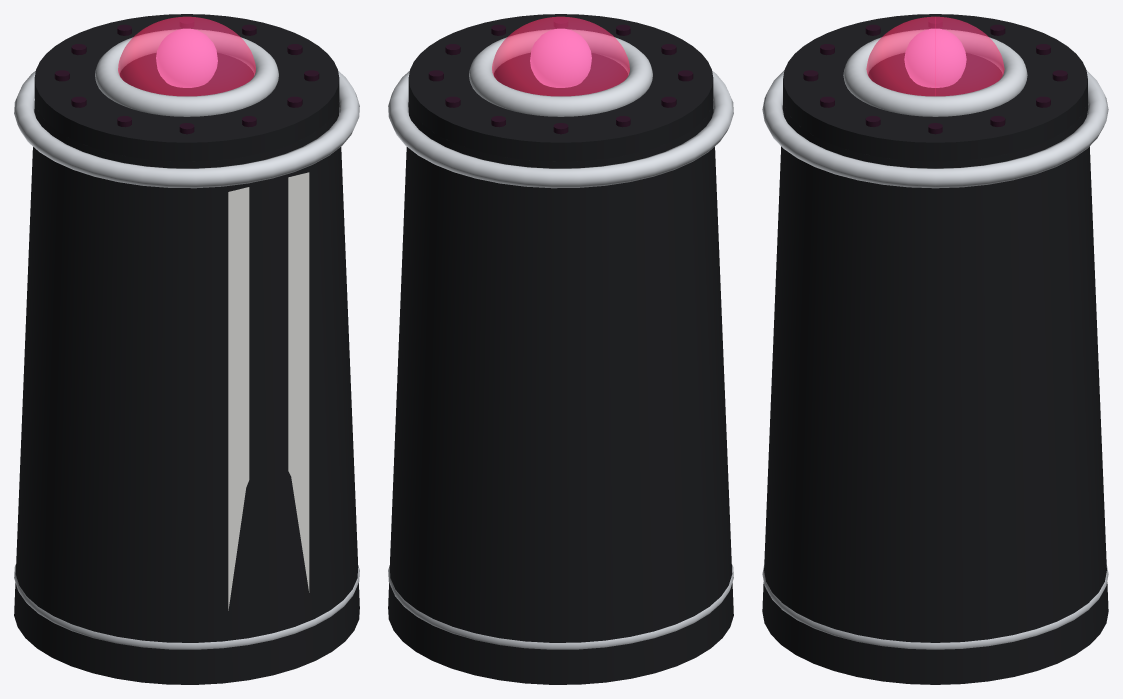
Rendered from push_arcade.glb.
3 renders of one model, left to right at view 1: azimuth 30°, elevation 25°; view 2: azimuth 150°, elevation 25°; view 3: azimuth 270°, elevation 25°, orthographic.
Parts seen in each view (by area): view 1: group, cap; view 2: group, cap; view 3: group, cap.
Part boxes in pixels (x1=…): group: x1=14, y1=14, x2=359, y2=684; cap: x1=118, y1=16, x2=255, y2=96; group: x1=388, y1=14, x2=733, y2=684; cap: x1=492, y1=16, x2=629, y2=96; group: x1=762, y1=14, x2=1108, y2=684; cap: x1=866, y1=16, x2=1004, y2=96.
Bounding box in the file's own units: 0.5 × 0.935 × 0.5.
